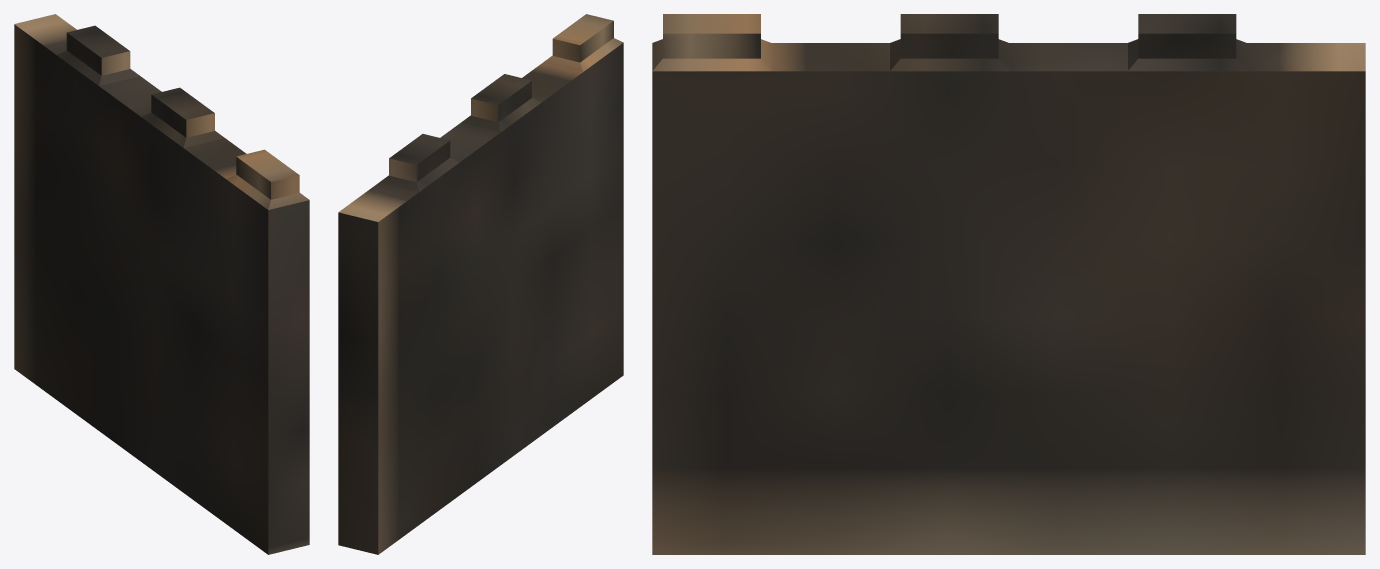
The model's file is ExtWall.fbx.
3 views of the same model, side by side, from view 1: azimuth 30°, elevation 25°; view 2: azimuth 150°, elevation 25°; view 3: azimuth 270°, elevation 25° (orthographic). The views are drawn at different scales.
Visible parts, largest first — view 1: Exterior Wall; view 2: Exterior Wall; view 3: Exterior Wall.
Part boxes in pixels (left/top/right/bottom): Exterior Wall: left=14, top=14, right=309, bottom=554; Exterior Wall: left=338, top=14, right=623, bottom=554; Exterior Wall: left=652, top=14, right=1365, bottom=554.
Size of the model in its own units: 200 by 1700 by 2125.
